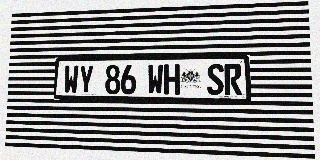6: (121, 65, 136, 94)
8: (105, 65, 121, 94)
H: (164, 64, 180, 95)
R: (224, 64, 242, 95)
S: (207, 64, 224, 95)
W: (147, 64, 163, 95), (64, 65, 79, 94)
Y: (78, 65, 94, 94)
